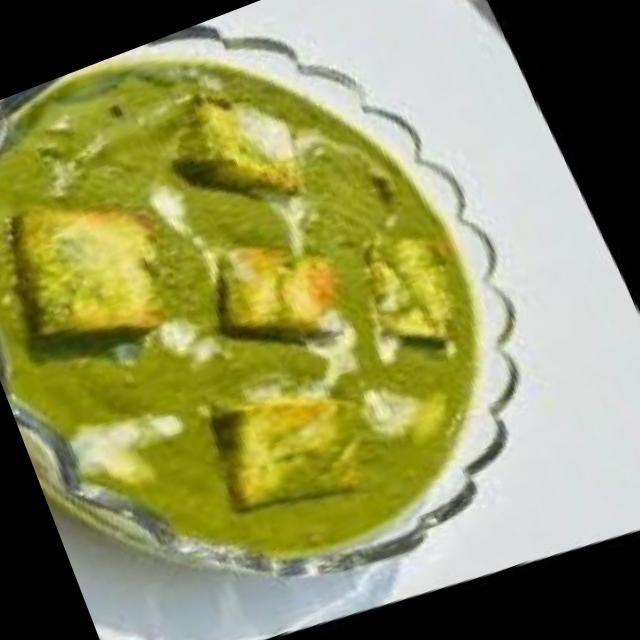palak_paneer: (0, 0, 572, 640)
